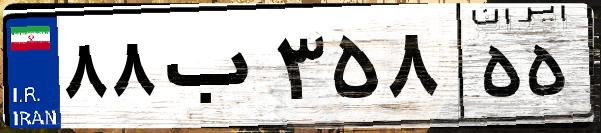3: (270, 28, 330, 110)
5: (330, 28, 385, 110), (475, 38, 525, 113), (525, 38, 570, 115)
8: (385, 28, 445, 110), (57, 26, 110, 100), (110, 28, 158, 98)
ب: (158, 20, 270, 120)
